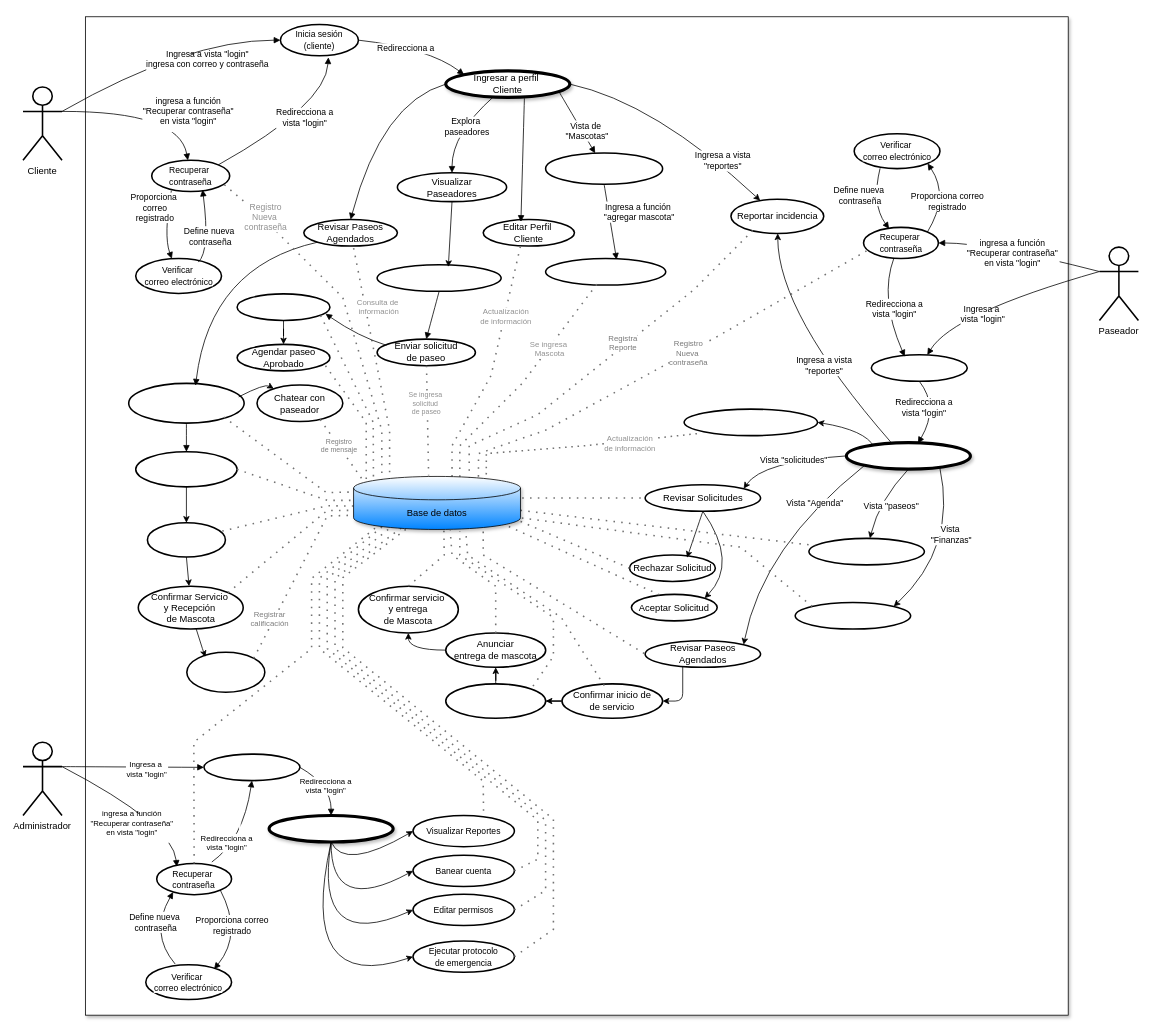
This 1152x1034 diagram has some shape labels left out. Here are the shapes that lost their labels. From the top down, the centre of each, then its label:
the point at 603,168: Visualizar Mascotas Registradas
the point at 439,278: Ver perfil de paseador
the point at 605,271: Registrar Mascota
the point at 283,307: Pagar servicio
the point at 919,368: Iniciar sesión (Paseador)
the point at 186,403: Recibir notificación de inicio de servicio
the point at 750,422: Editar Perfil Paseador
the point at 186,469: Confirmar entrega de mascota
the point at 908,457: Ingresar a perfil Paseador
the point at 186,539: Monitorear paseo
the point at 866,551: Revisar Historial de paseos
the point at 852,615: Cobrar Pagos
the point at 225,672: Calificar Paseo
the point at 495,701: Confirmar retiro de mascota
the point at 251,767: Iniciar sesión (Administrador)
the point at 331,829: Ingresar a perfil Adminsitrador
